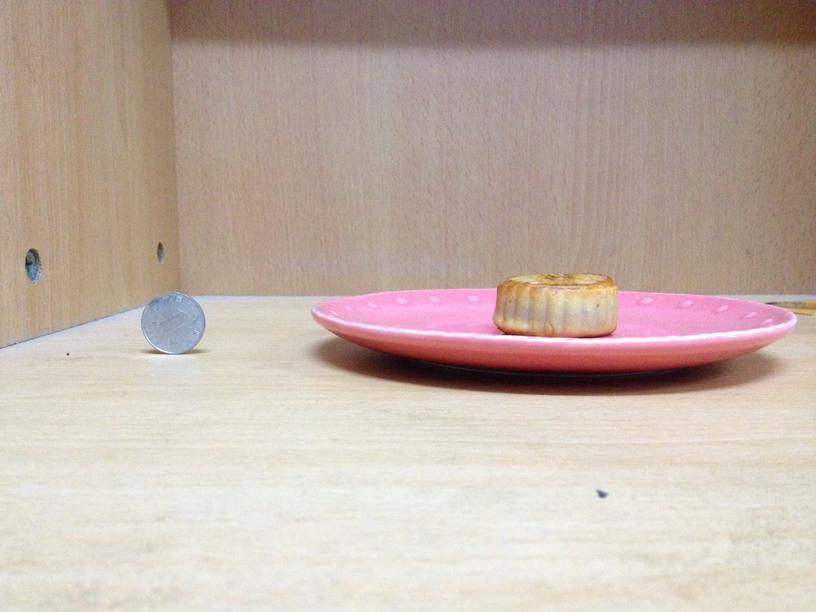coin: (138, 291, 204, 352)
mooncake: (494, 271, 619, 335)
